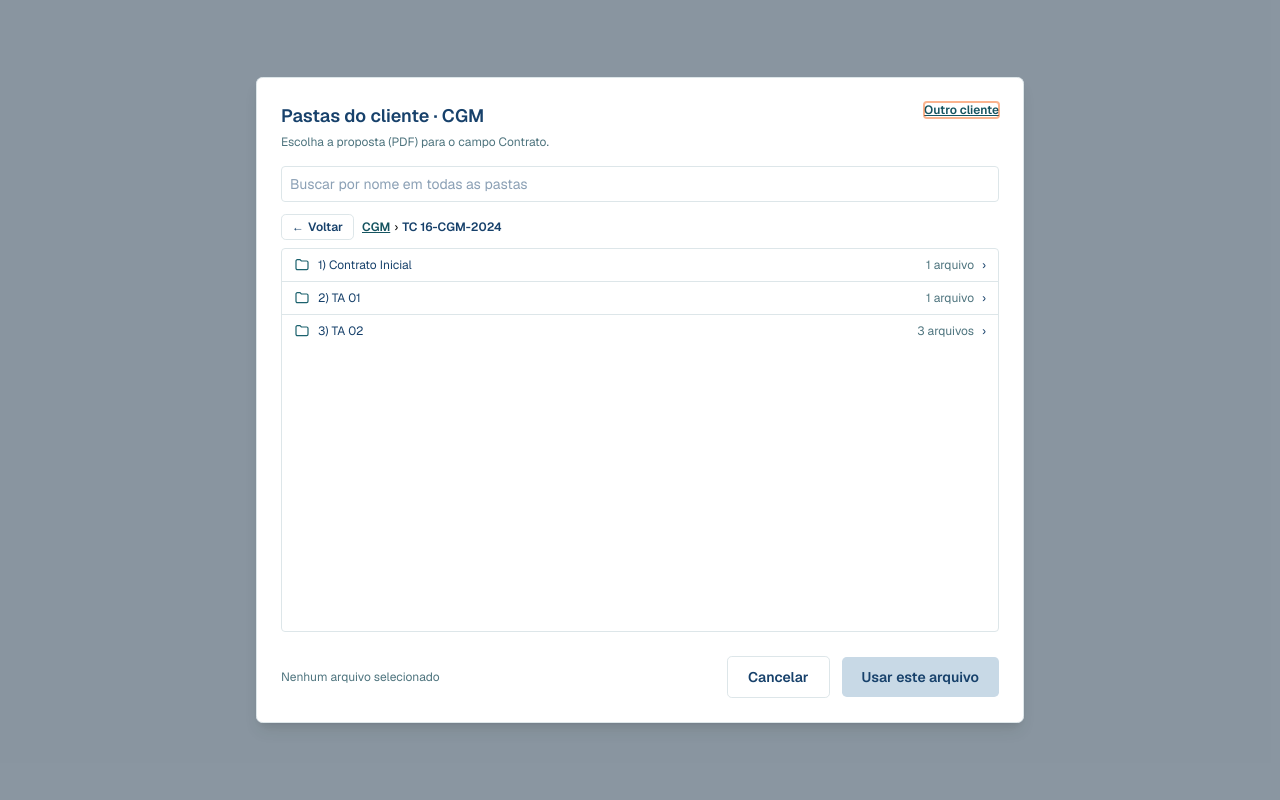
Test: busca por nome em todas as pastas
Check: the button "3) TA 02 3 arquivos ›" is shown, box [282,315,998,347]
Step 1. Type "230726" into the search field named "Buscar arquivo nas pastas" → {"x": 640, "y": 184}, box [281,166,999,202]
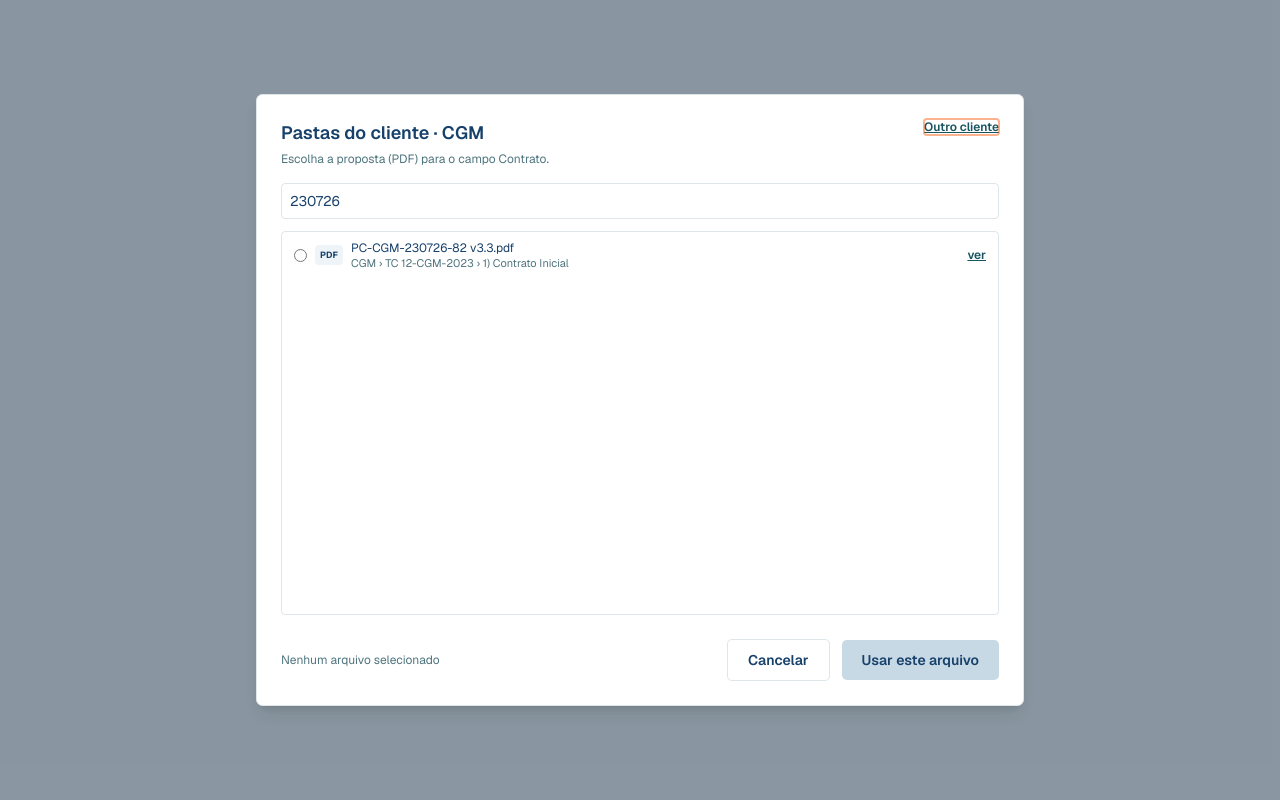
Check: the radio button labelled "PC-CGM-230726-82 v3.3.pdf" is shown, box [294,249,307,262]
